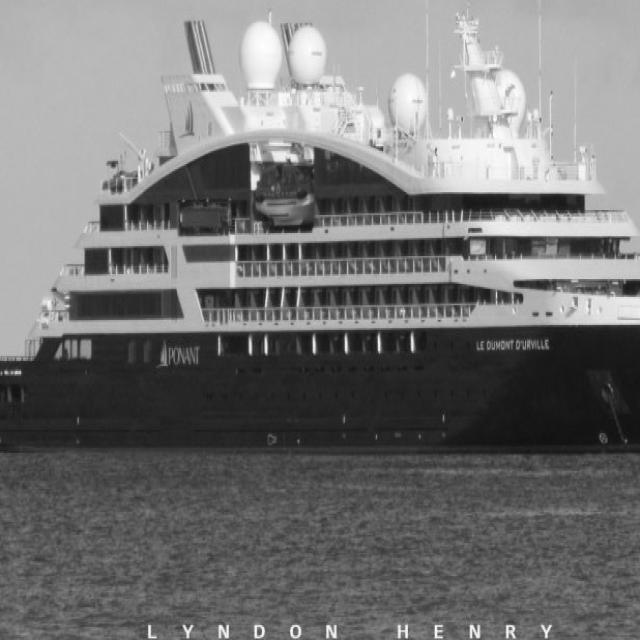cruises: (1, 1, 640, 480)
